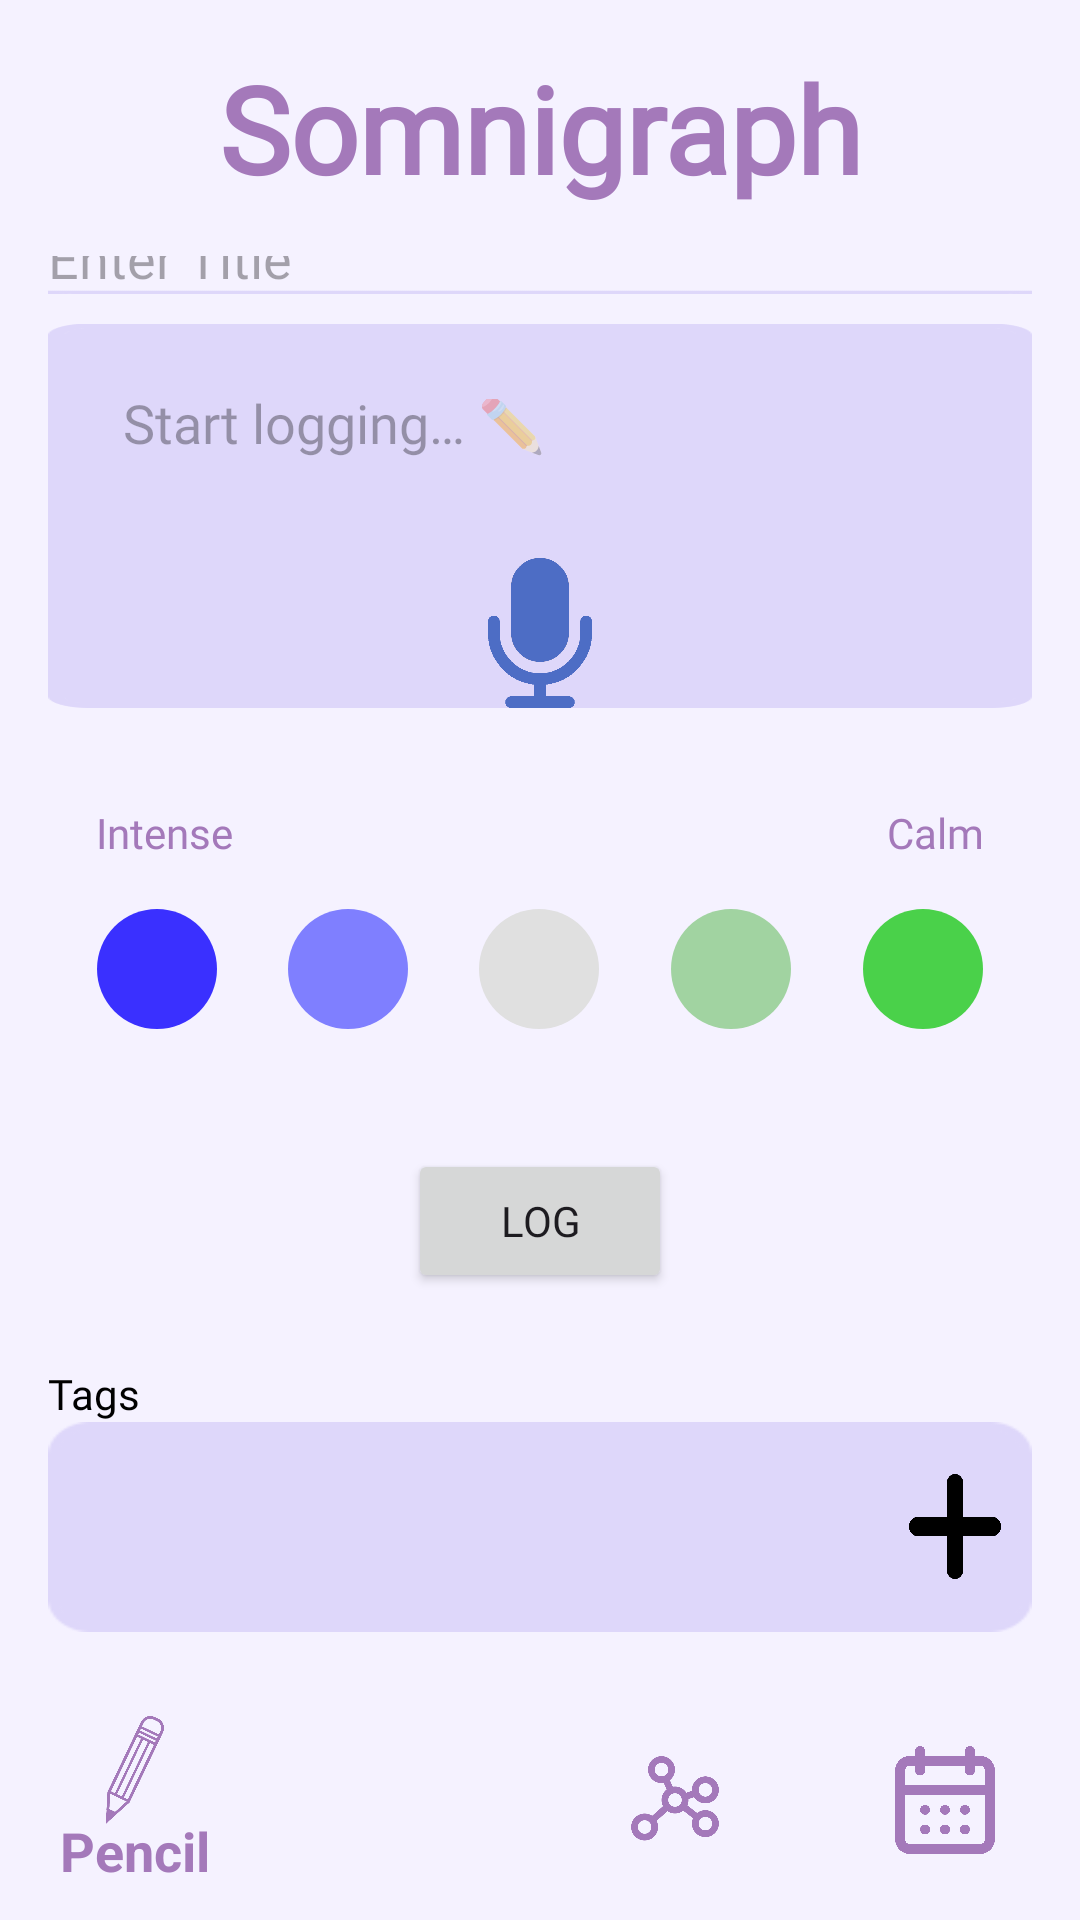

Icons on this 1080*1920 Android screen, each with its box as (x1, y1, x2, y2):
plus: (909, 1474, 1001, 1579)
